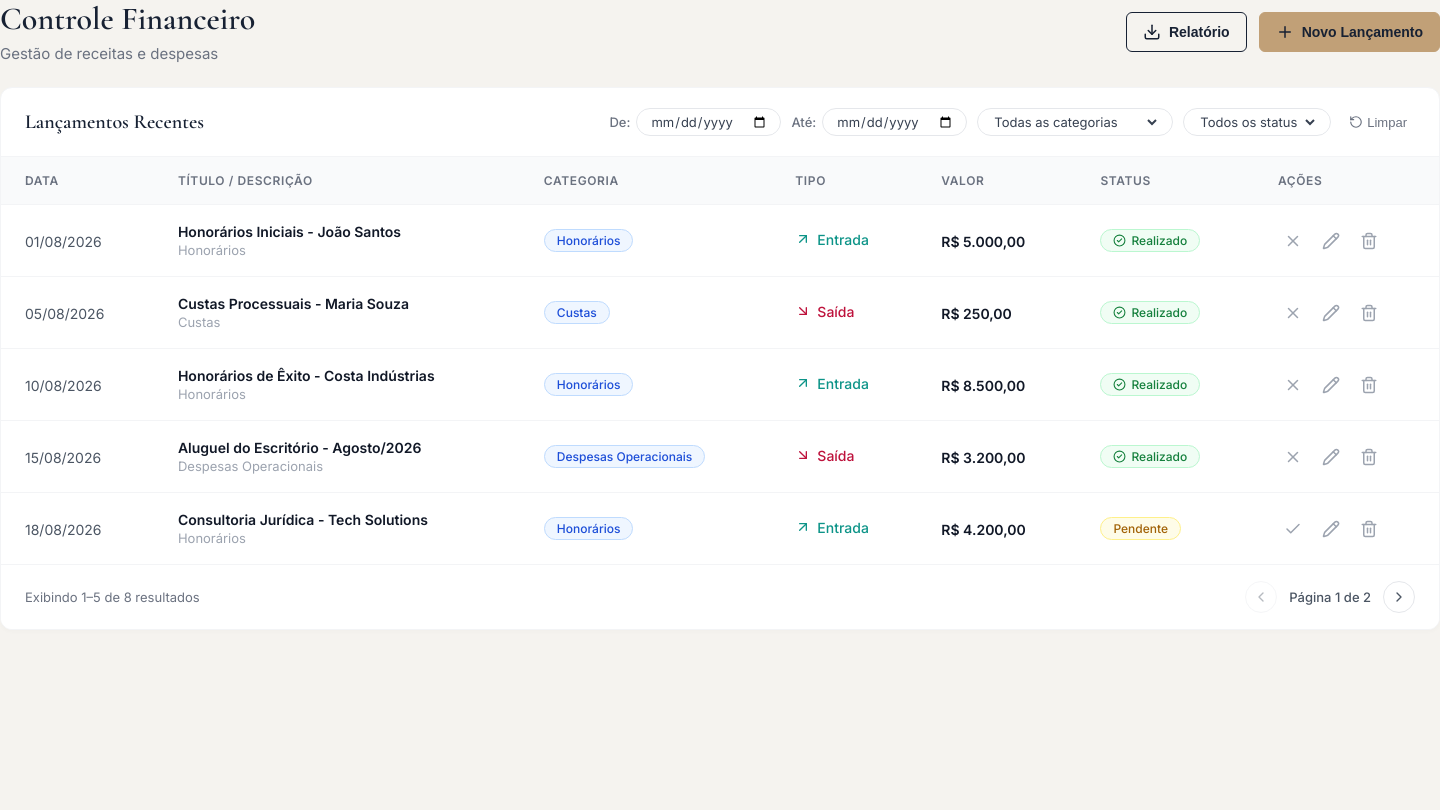
Test: FinancasClient › permite acionar edição e exclusão de lançamentos
Click the button named "Editar lançamento" in the row of "01/08/2026".
click(1331, 241)  # box top-left (1316, 226), bottom-right (1346, 256)
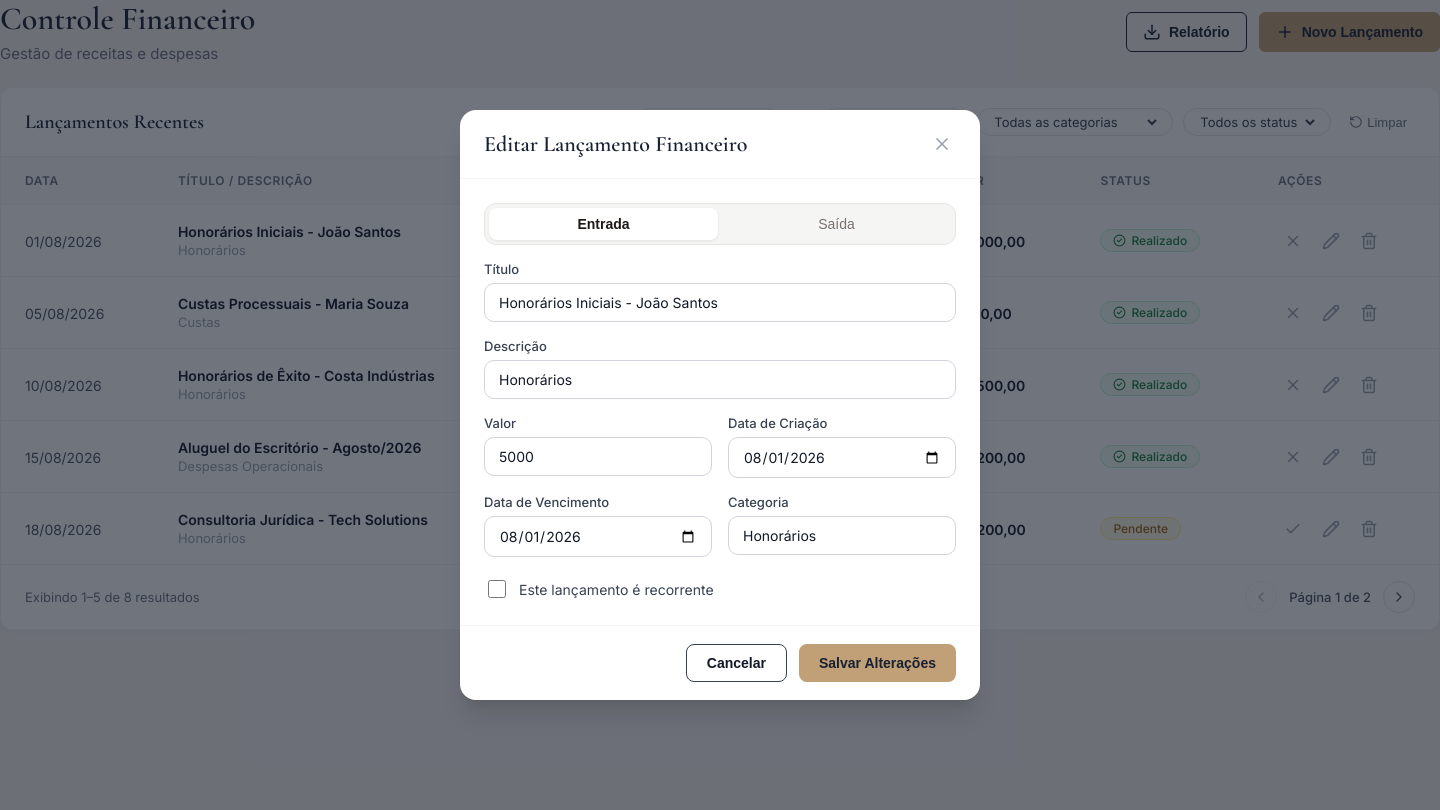
Click the button named "Fechar".
click(942, 144)  # box top-left (928, 130), bottom-right (956, 158)
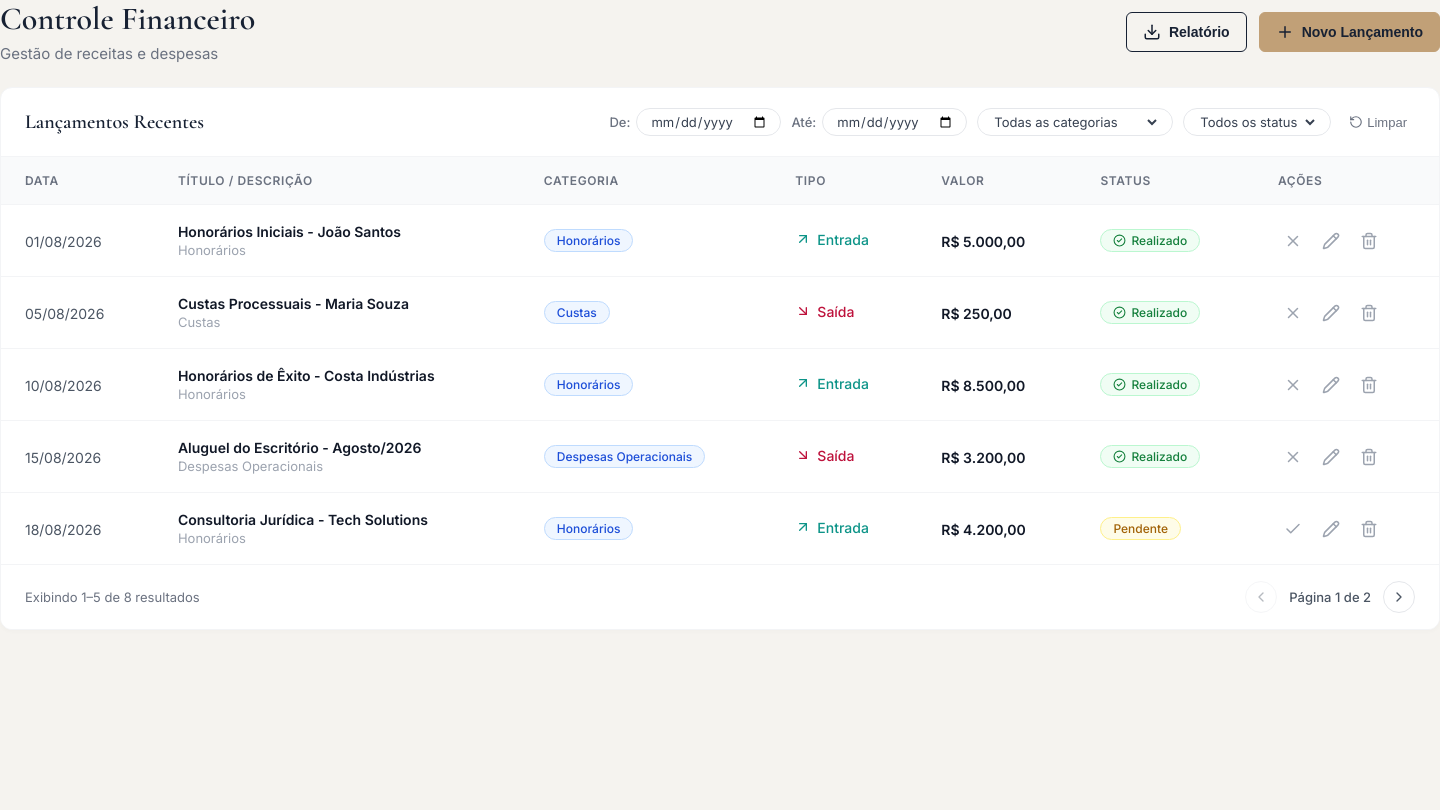
Click the button named "Excluir lançamento" in the row of "01/08/2026".
click(1369, 241)  # box top-left (1354, 226), bottom-right (1384, 256)
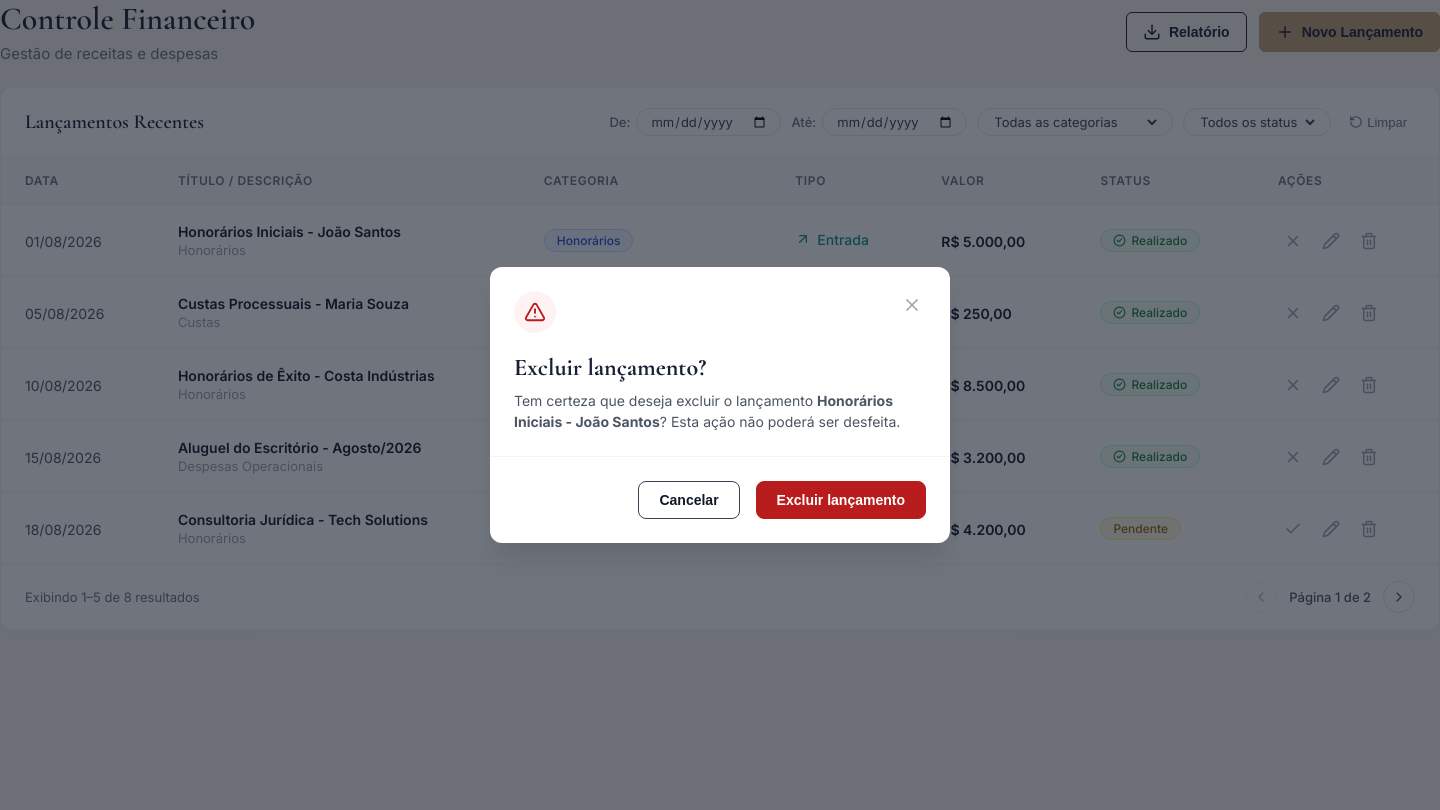
Click the button with class "deleteButton".
click(841, 500)  # box top-left (756, 481), bottom-right (926, 519)
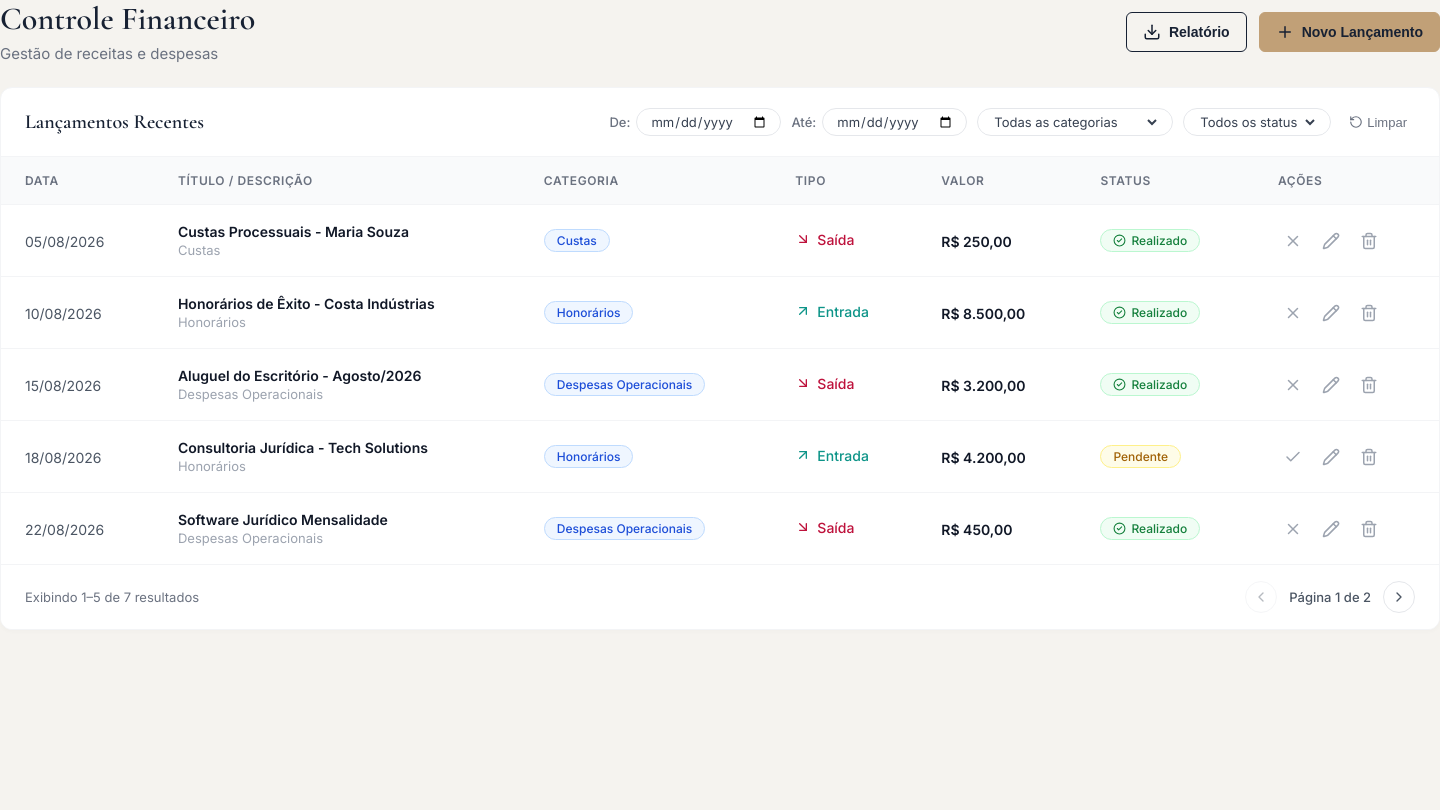
Check: the text "Honorários Iniciais - João Santos" is gone
